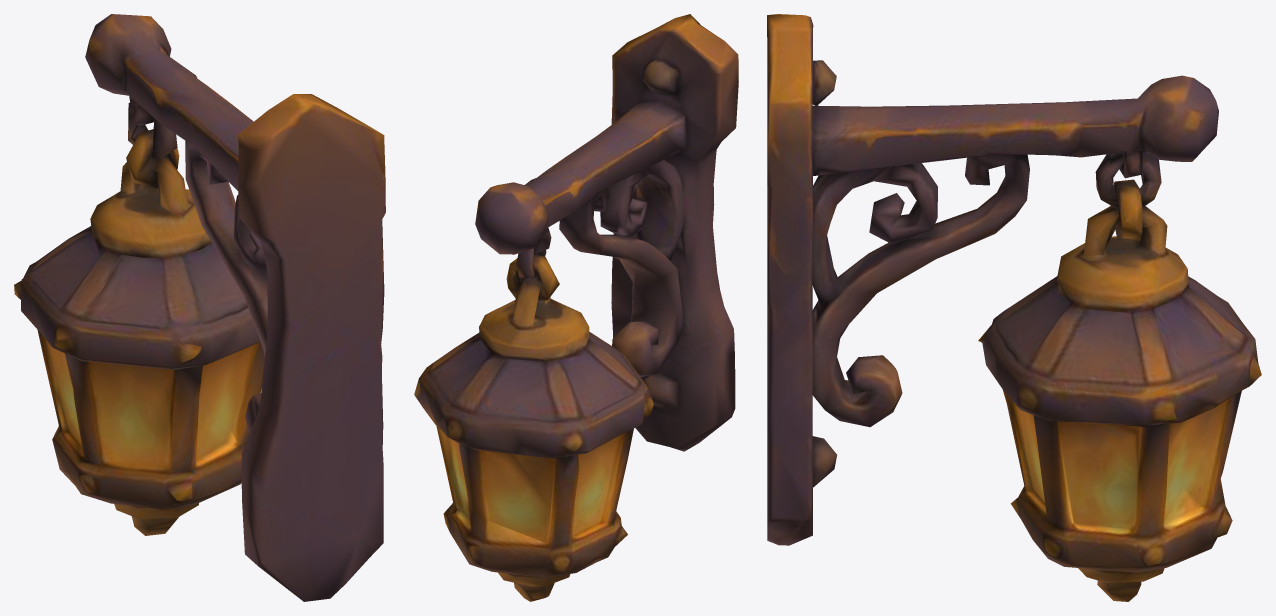
Rendered from model-prop-ship-lantern-01.glb.
3 views of the same model, side by side, from view 1: azimuth 30°, elevation 25°; view 2: azimuth 150°, elevation 25°; view 3: azimuth 270°, elevation 25° (orthographic). The views are drawn at different scales.
Parts seen in each view (by area): view 1: tripo_node_380a1a79-96f9-4967-abf2-4324be6b9294; view 2: tripo_node_380a1a79-96f9-4967-abf2-4324be6b9294; view 3: tripo_node_380a1a79-96f9-4967-abf2-4324be6b9294.
Boxes of the visible parts, <box> form: tripo_node_380a1a79-96f9-4967-abf2-4324be6b9294: <box>14,14,385,601</box>; tripo_node_380a1a79-96f9-4967-abf2-4324be6b9294: <box>414,14,738,601</box>; tripo_node_380a1a79-96f9-4967-abf2-4324be6b9294: <box>767,14,1261,601</box>.
Size of the model in its own units: 0.2663 by 0.6 by 0.4661.
1 material, 1 textured.
